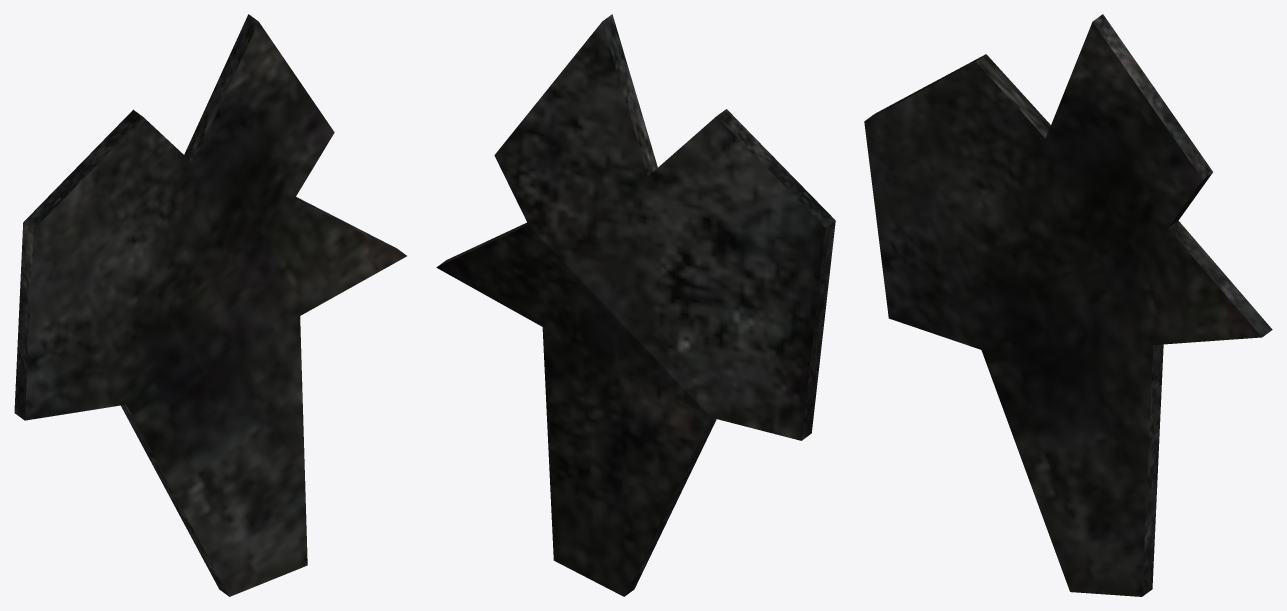
The model's file is prop_barrel_shard3.glb.
3 views of the same model, side by side, from view 1: azimuth 30°, elevation 25°; view 2: azimuth 150°, elevation 25°; view 3: azimuth 330°, elevation 25° (orthographic). The views are drawn at different scales.
Size of the model in its own units: 9.34 by 13.3 by 1.25.
Materials: 1 (1 with a texture image).
